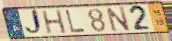2: (127, 4, 154, 33)
8: (86, 7, 107, 34)
H: (41, 8, 69, 35)
J: (24, 8, 45, 37)
L: (64, 9, 87, 34)
N: (104, 6, 132, 33)
